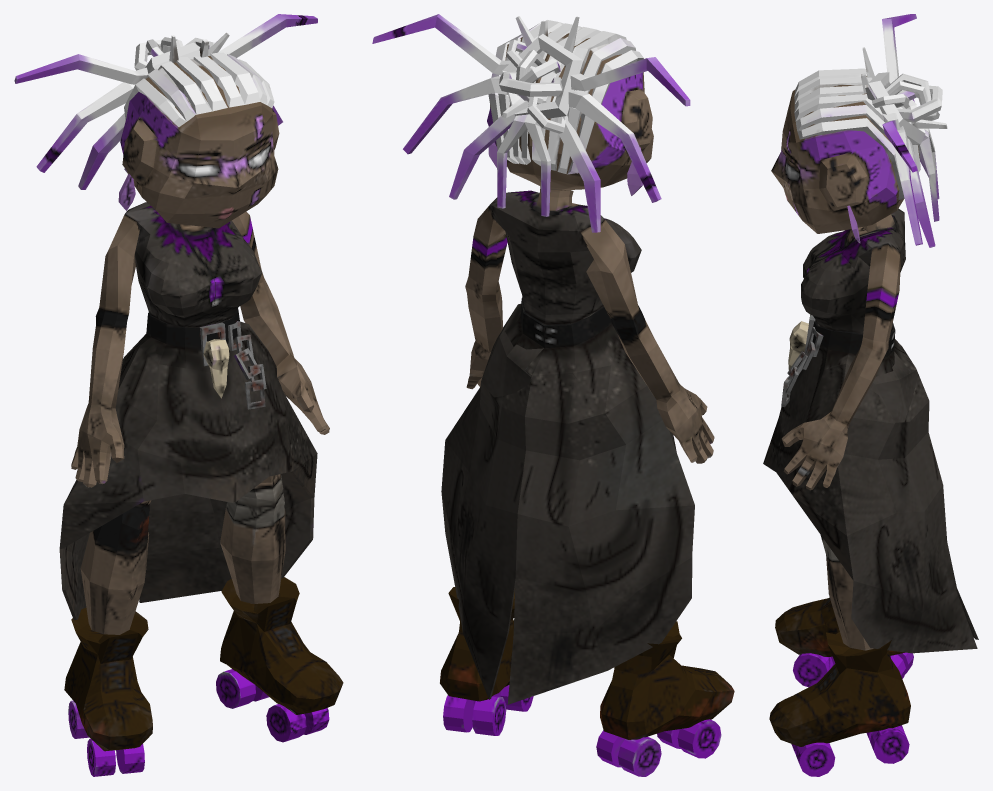
The model's file is bruja_000001.obj.
3 views of the same model, side by side, from view 1: azimuth 30°, elevation 25°; view 2: azimuth 150°, elevation 25°; view 3: azimuth 270°, elevation 25° (orthographic). The views are drawn at different scales.
Visible parts, largest first — view 1: Bruja_Plane.001; view 2: Bruja_Plane.001; view 3: Bruja_Plane.001.
Boxes of the visible parts, box(x1,y1,x2,y2) form: Bruja_Plane.001: box(14, 14, 343, 776); Bruja_Plane.001: box(372, 14, 734, 776); Bruja_Plane.001: box(763, 14, 978, 776).
Bounding box in the file's own units: 7.47 × 16.61 × 4.82.
1 material, 1 textured.
